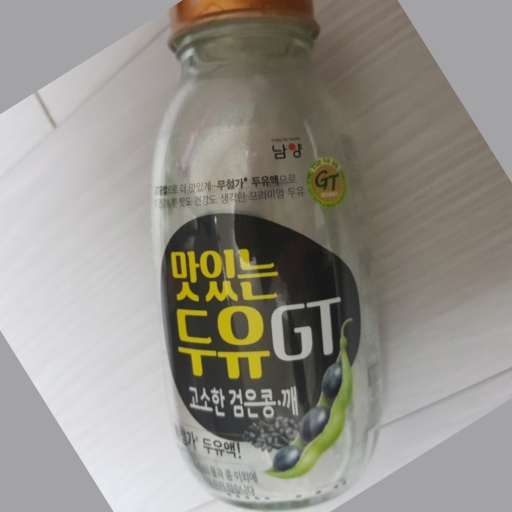Glass_4: (151, 4, 386, 504)
